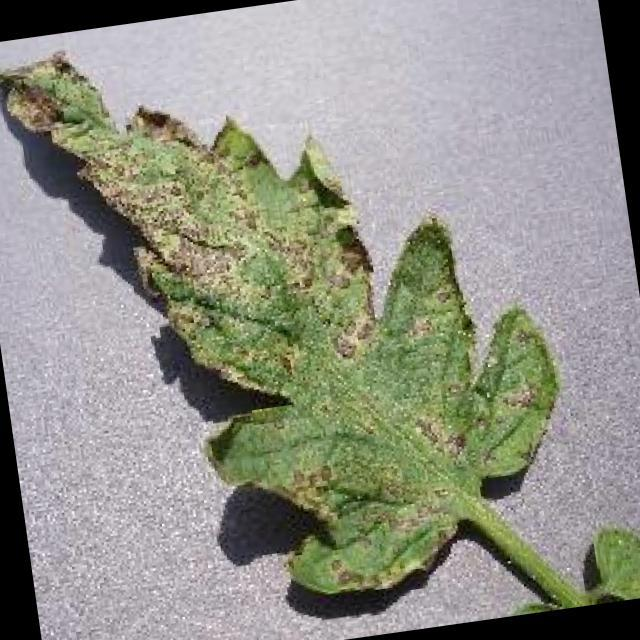Tomato Septoria spot leaf: (0, 0, 579, 638)
